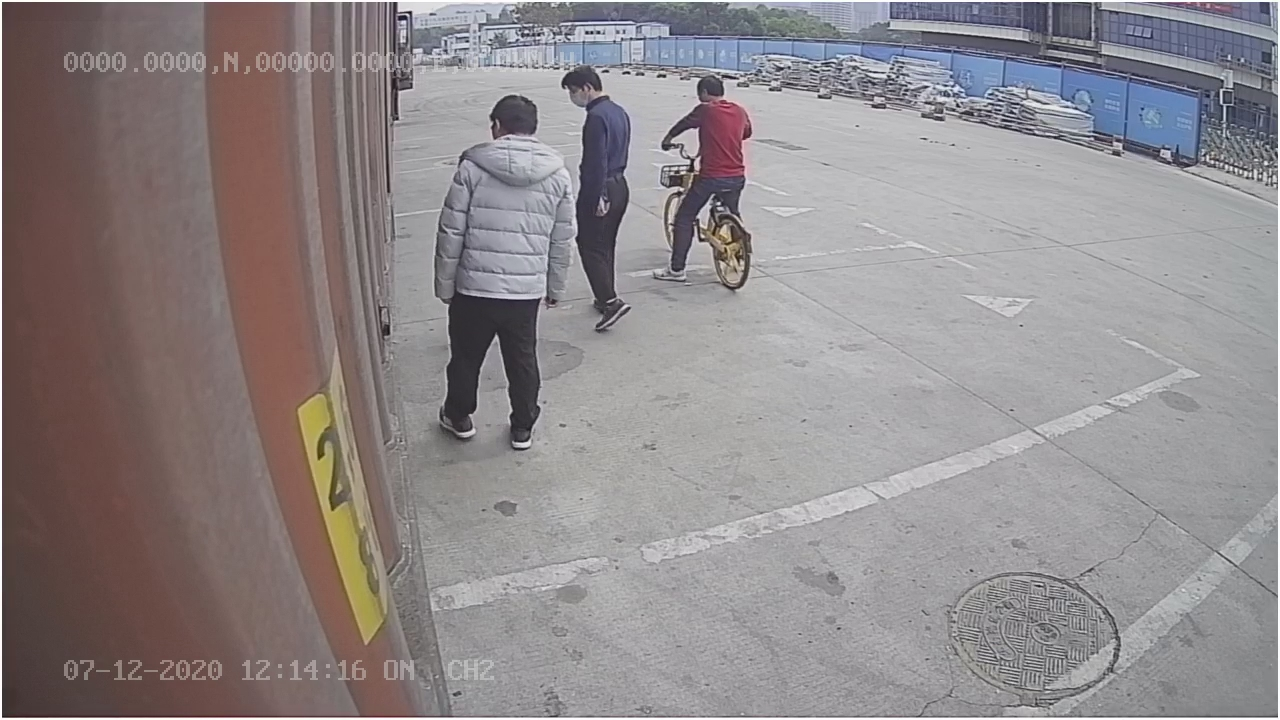person: (429, 92, 575, 454)
